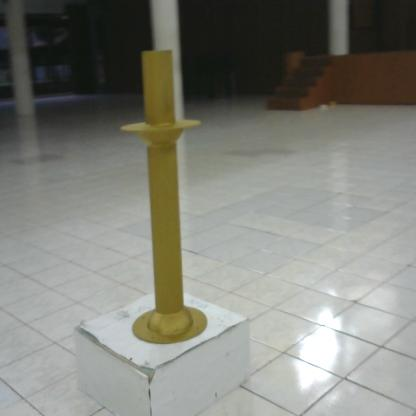pole: (113, 37, 221, 355)
